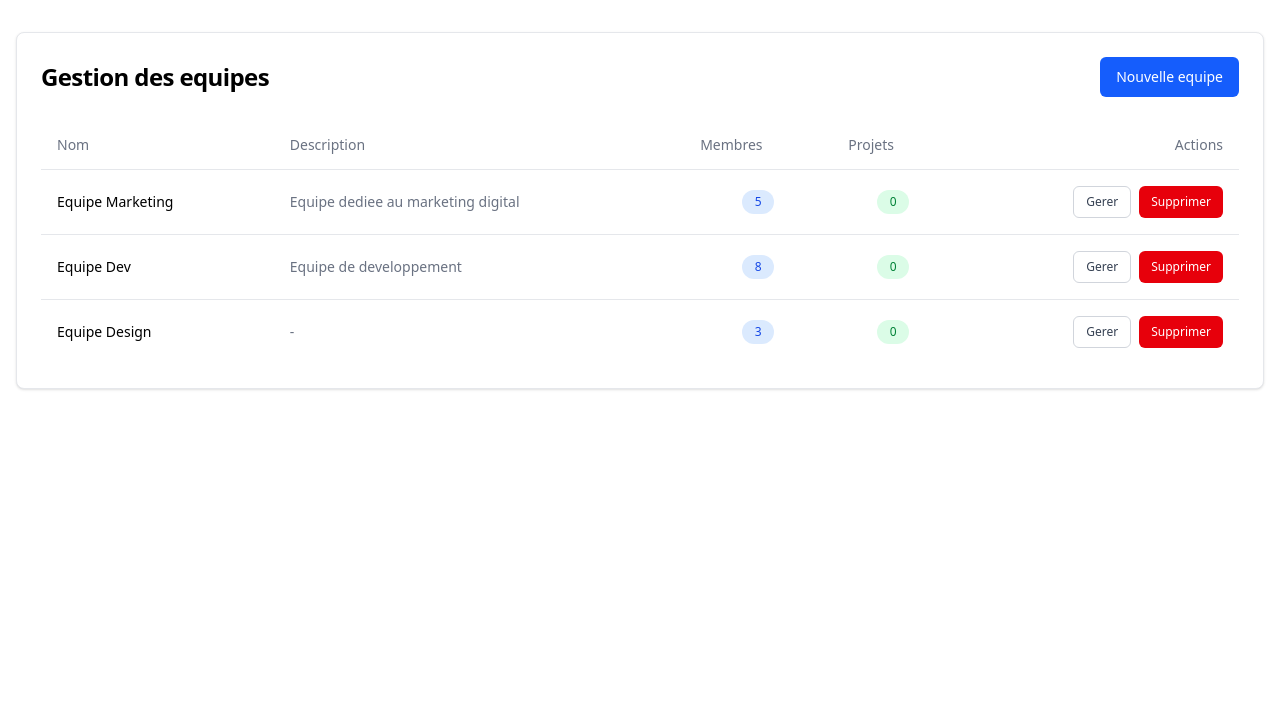
Test: TeamsPage › AC2: Create Team Modal › closes modal when clicking Cancel
The image size is (1280, 720).
Click the button "Nouvelle equipe" at (1170, 77), box [1100,57,1239,97]
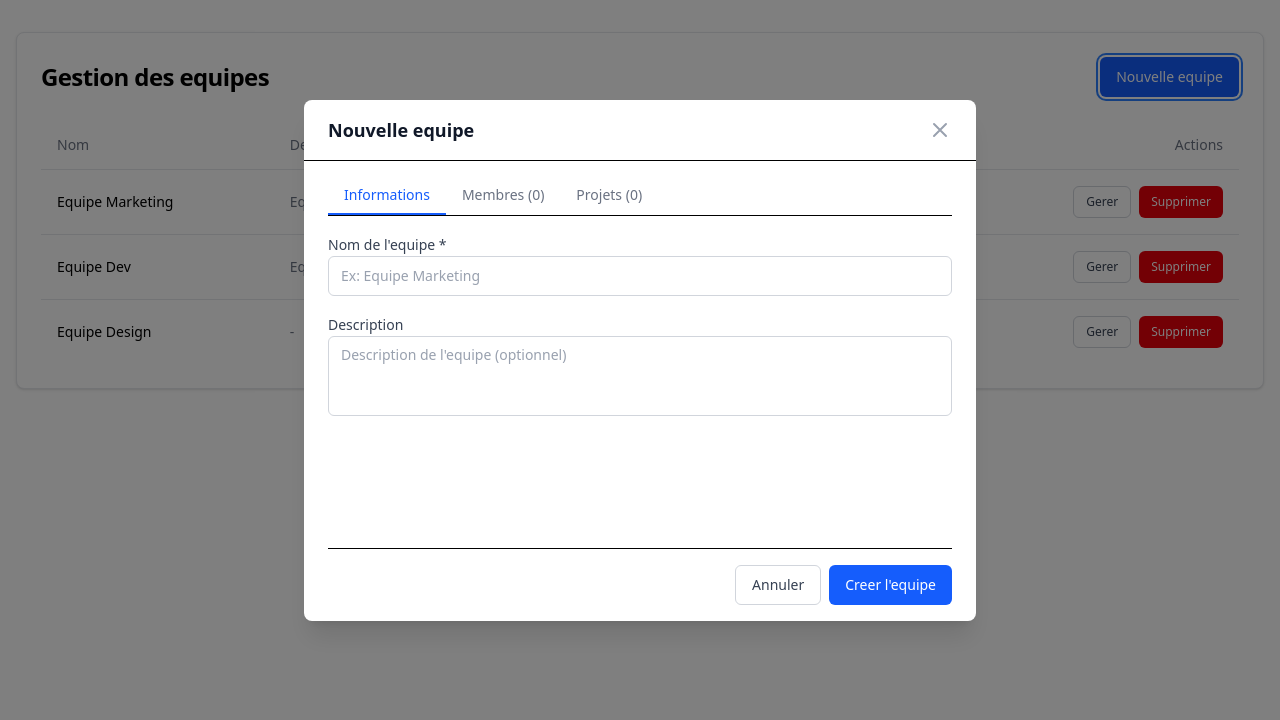
Check: the field labelled "Nom de l'equipe *" is shown, box [328,256,952,296]
Click the button "Annuler" at (778, 584), box [735,564,821,604]
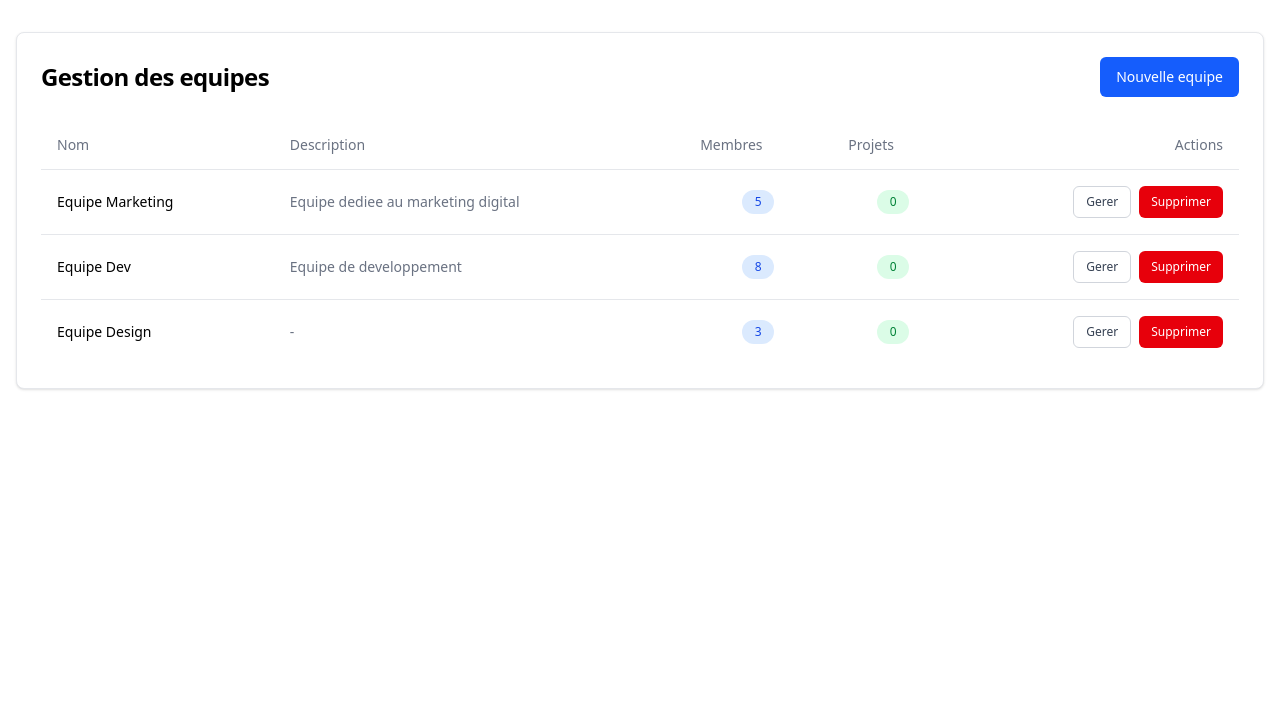
Check: the label labelled "Nom de l'equipe" is gone
